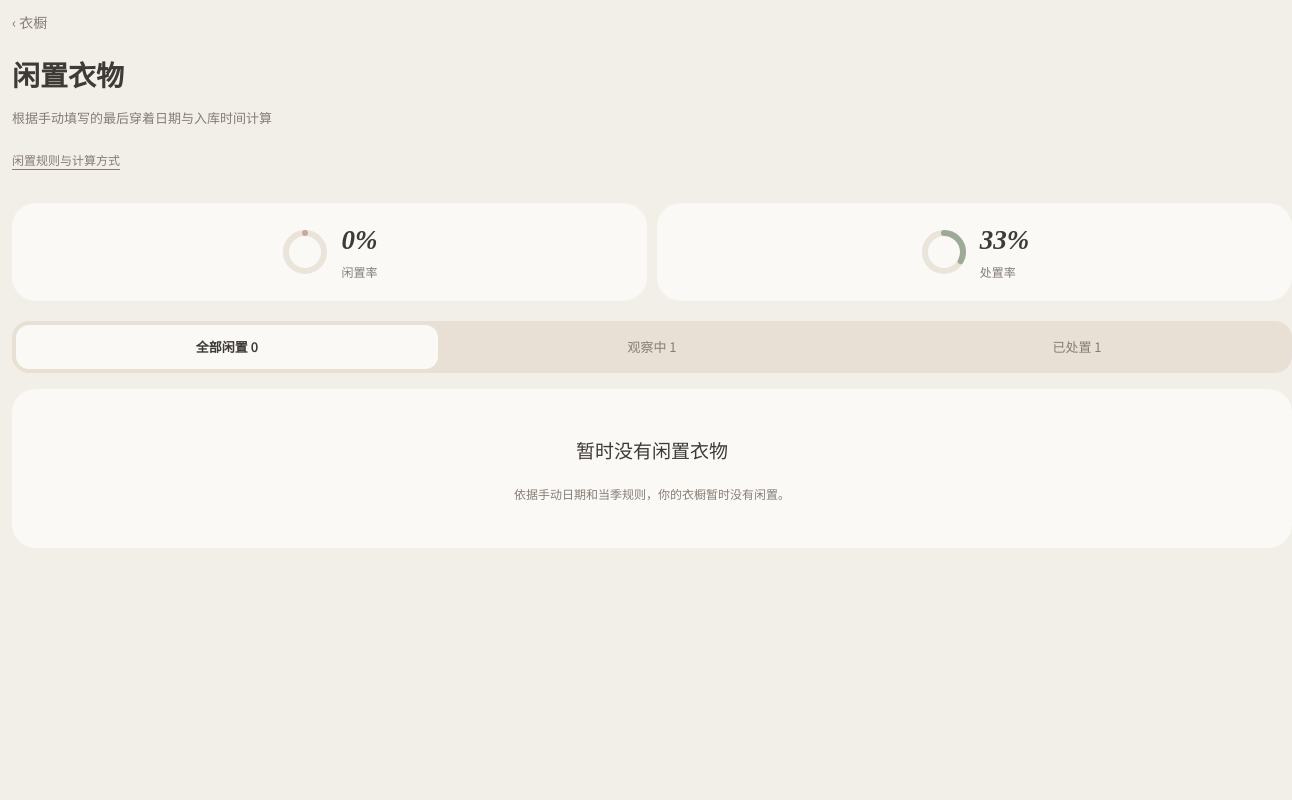
Test: includes non-idle watches in observation, cancels them and refreshes
expect the heading "暂时没有闲置衣物" is shown: met, box x1=576 y1=441 x2=728 y2=462
Click the button "观察中 1" at (652, 347), box x1=441 y1=325 x2=863 y2=369
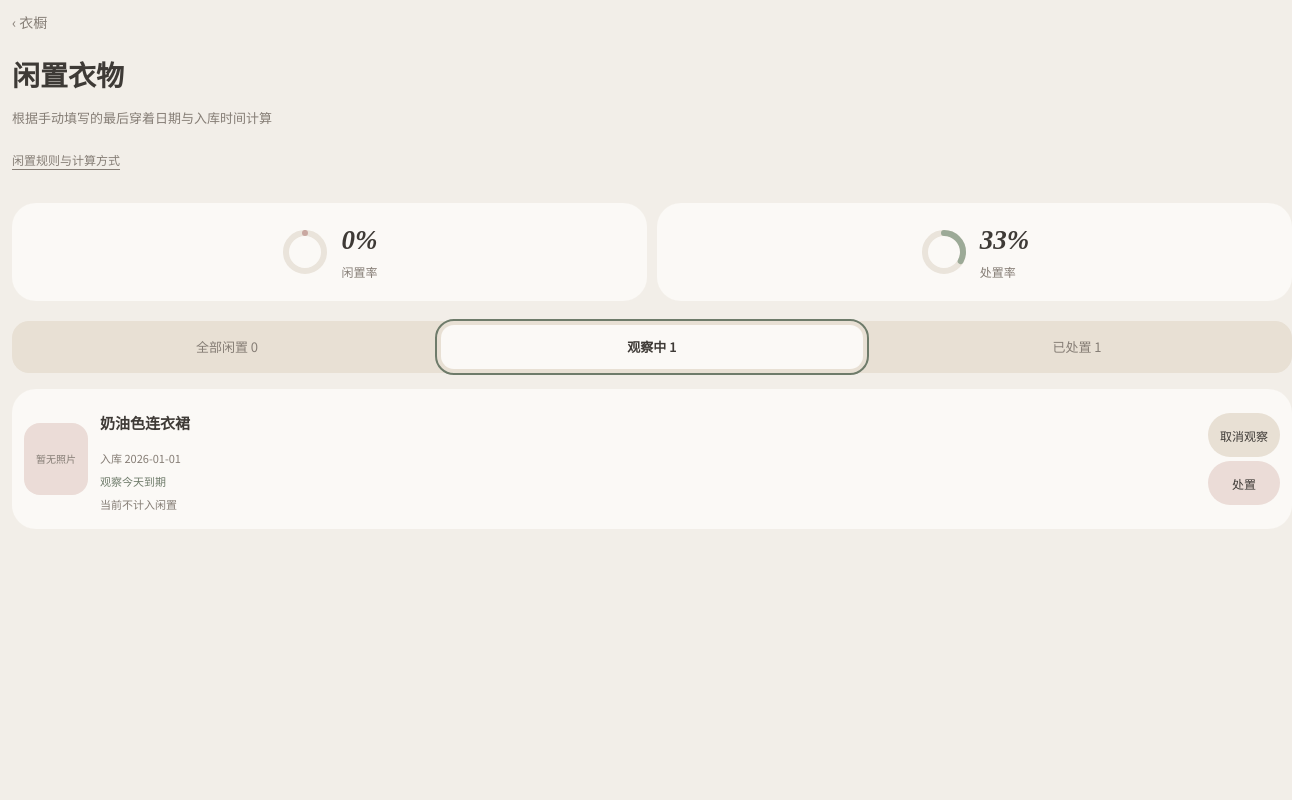
expect the text "观察今天到期" is shown: met, box x1=100 y1=473 x2=166 y2=489
expect the text "当前不计入闲置" is shown: met, box x1=100 y1=496 x2=177 y2=512
Click the button with aria-label "取消观察奶油色连衣裙" at (1244, 435), box x1=1208 y1=413 x2=1280 y2=457
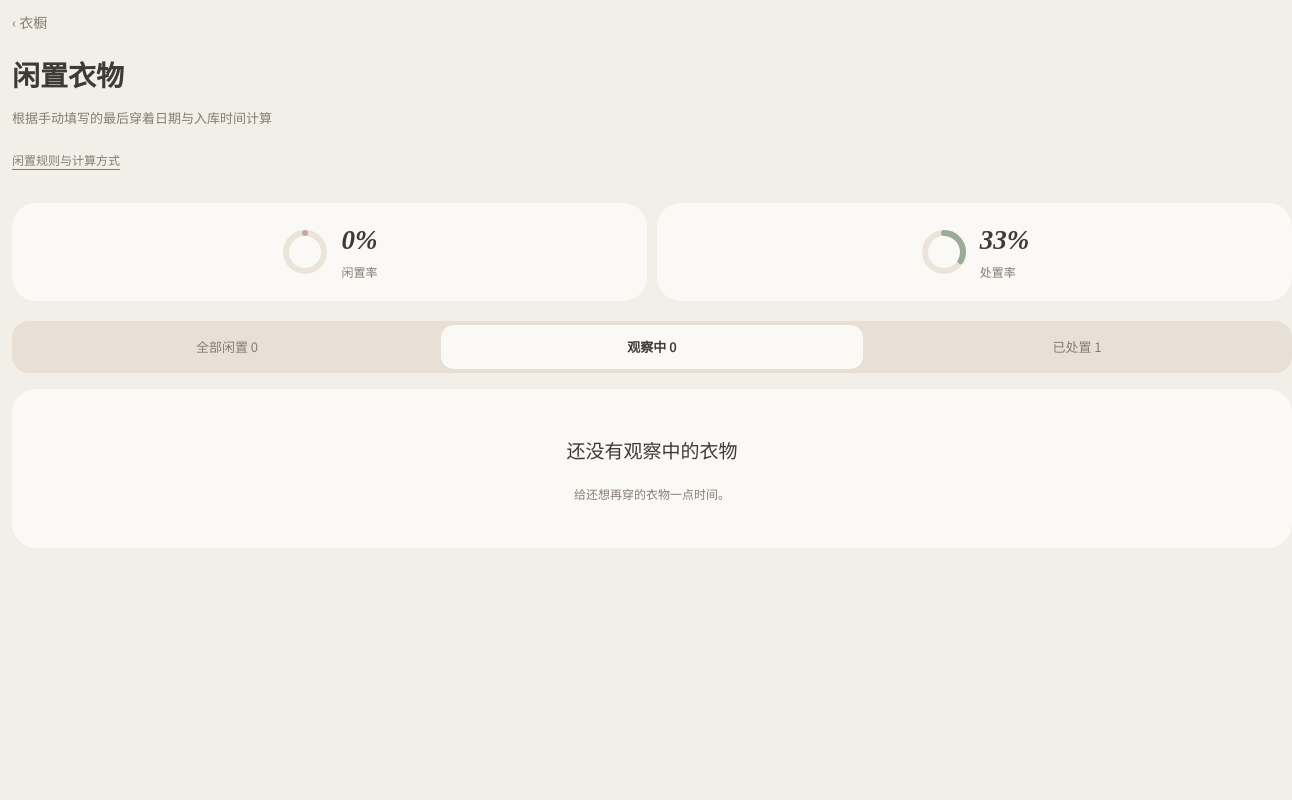
expect the heading "还没有观察中的衣物" is shown: met, box x1=566 y1=441 x2=738 y2=462
